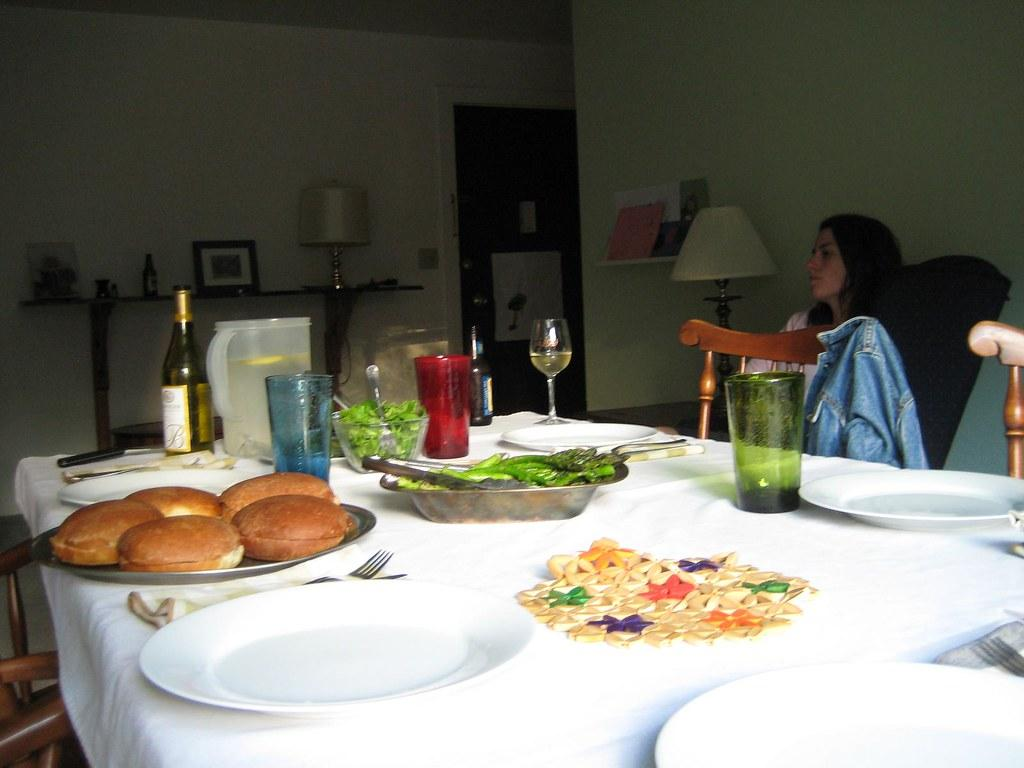table: (17, 409, 1023, 766)
